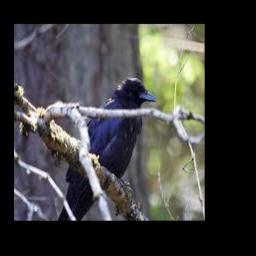Crow: (57, 77, 156, 221)
